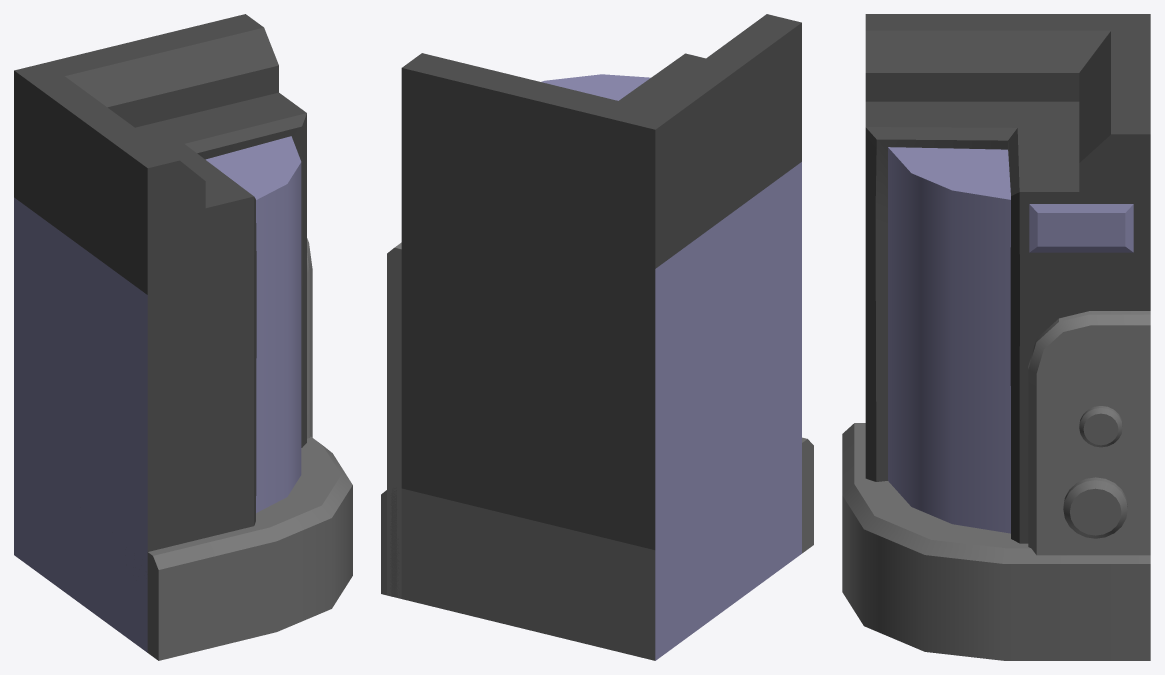
The model's file is Appareil.fbx.
3 views of the same model, side by side, from view 1: azimuth 30°, elevation 25°; view 2: azimuth 150°, elevation 25°; view 3: azimuth 270°, elevation 25° (orthographic). The views are drawn at different scales.
Parts seen in each view (by area): view 1: Appareil; view 2: Appareil; view 3: Appareil.
Boxes of the visible parts, x1,y1,x2,y2 form: Appareil: [14, 14, 352, 660]; Appareil: [381, 14, 813, 660]; Appareil: [842, 14, 1150, 660].
Bounding box in the file's own units: 27.16 × 49.26 × 26.62.
